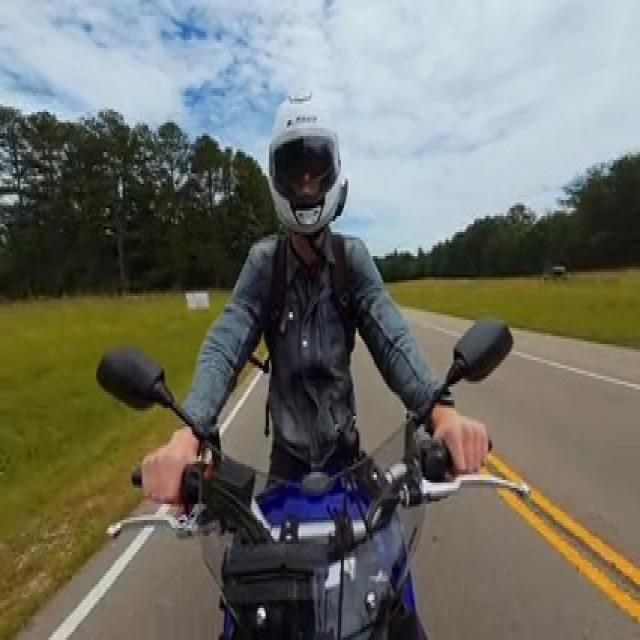Helmet_Wearer: (252, 74, 366, 234)
Person: (150, 95, 492, 530)
